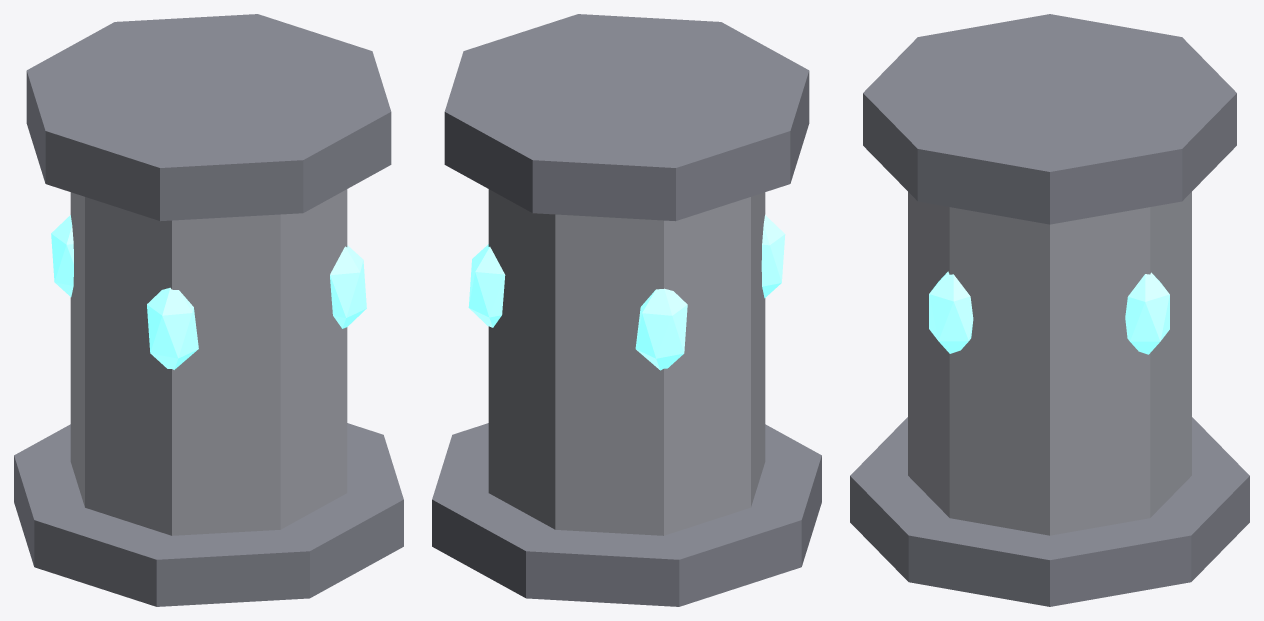
Rendered from pedestal.glb.
3 views of the same model, side by side, from view 1: azimuth 30°, elevation 25°; view 2: azimuth 150°, elevation 25°; view 3: azimuth 270°, elevation 25° (orthographic).
Visible parts, largest first — view 1: PedestalFoot; view 2: PedestalFoot; view 3: PedestalFoot.
Boxes of the visible parts, x1,y1,x2,y2 form: PedestalFoot: (14,14,403,606); PedestalFoot: (432,14,821,606); PedestalFoot: (850,14,1249,606).
Bounding box in the file's own units: 1.24 × 1.47 × 1.24.
